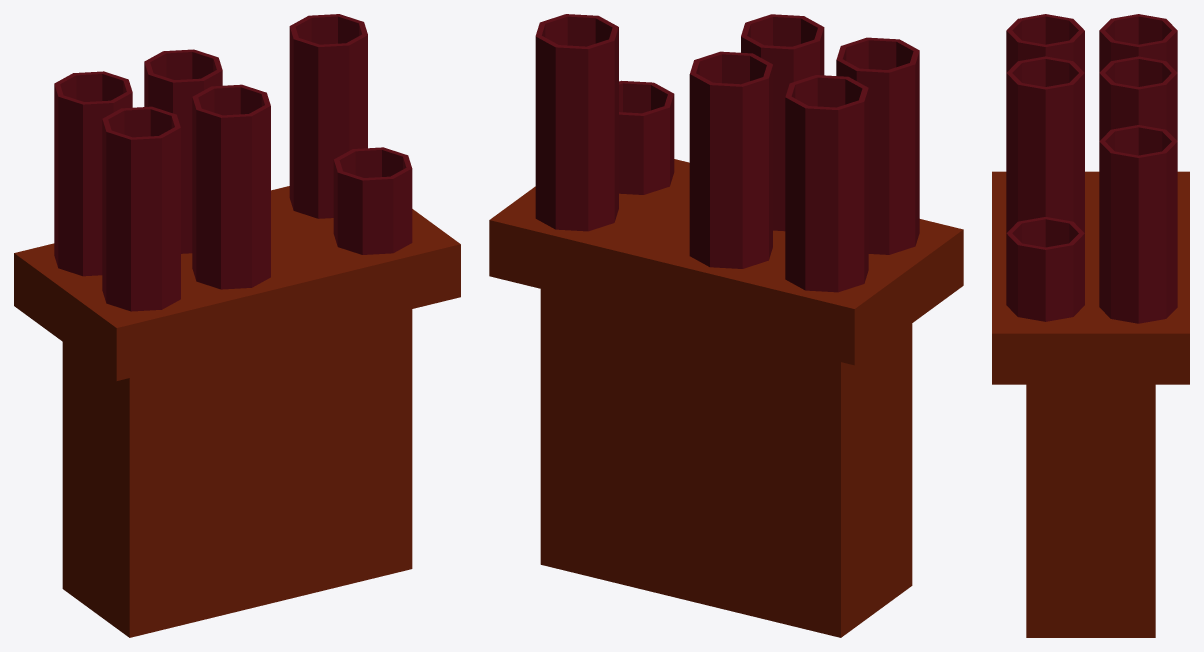
File: Prop_Chimney_03.fbx
3 renders of one model, left to right at view 1: azimuth 30°, elevation 25°; view 2: azimuth 150°, elevation 25°; view 3: azimuth 270°, elevation 25°, orthographic. The views are drawn at different scales.
Visible parts, largest first — view 1: Prop_Chimney_03; view 2: Prop_Chimney_03; view 3: Prop_Chimney_03.
Part boxes in pixels (<box>): Prop_Chimney_03: <box>14,14,460,637</box>; Prop_Chimney_03: <box>489,14,963,637</box>; Prop_Chimney_03: <box>992,14,1189,637</box>.
Size of the model in its own units: 99.2 by 138 by 51.2.
